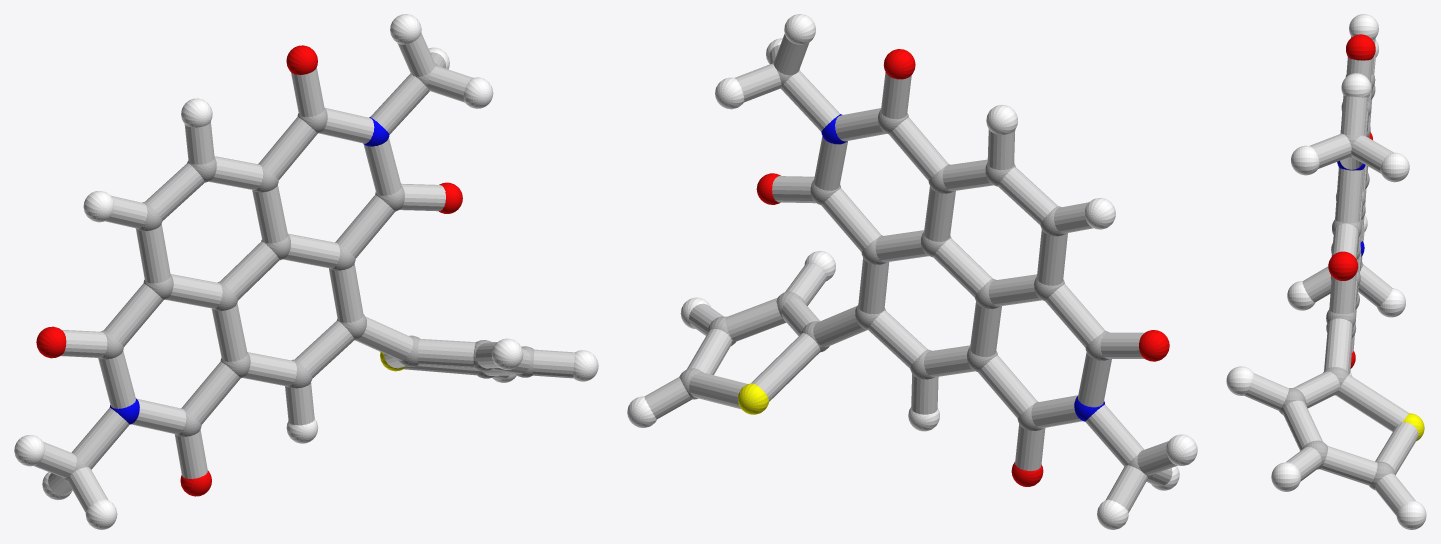
File: Dimethyl_Naphthalene_Dicarboximide_Phi_15_Theta_70_Thiophene.glb
3 views of the same model, side by side, from view 1: azimuth 30°, elevation 25°; view 2: azimuth 150°, elevation 25°; view 3: azimuth 270°, elevation 25° (orthographic). The views are drawn at different scales.
Visible parts, largest first — view 1: grp14119, grp7241, grp1, grp12309, grp11585; view 2: grp14119, grp7241, grp1, grp12309, grp13757, grp11585; view 3: grp14119, grp7241, grp1, grp12309, grp13757.
Part boxes in pixels (bbox=[...]): grp14119: bbox=[34, 33, 574, 512]; grp7241: bbox=[14, 14, 598, 529]; grp1: bbox=[63, 63, 534, 481]; grp12309: bbox=[36, 45, 462, 496]; grp11585: bbox=[110, 117, 389, 424]; grp14119: bbox=[644, 34, 1177, 512]; grp7241: bbox=[627, 14, 1197, 529]; grp1: bbox=[679, 61, 1152, 478]; grp12309: bbox=[756, 49, 1169, 486]; grp13757: bbox=[737, 383, 768, 414]; grp11585: bbox=[821, 114, 1104, 421]; grp14119: bbox=[1244, 36, 1418, 515]; grp7241: bbox=[1226, 14, 1426, 529]; grp1: bbox=[1279, 73, 1395, 489]; grp12309: bbox=[1328, 34, 1375, 368]; grp13757: bbox=[1403, 413, 1424, 440].
Bounding box in the file's own units: 11.93 × 8.8 × 4.01.
